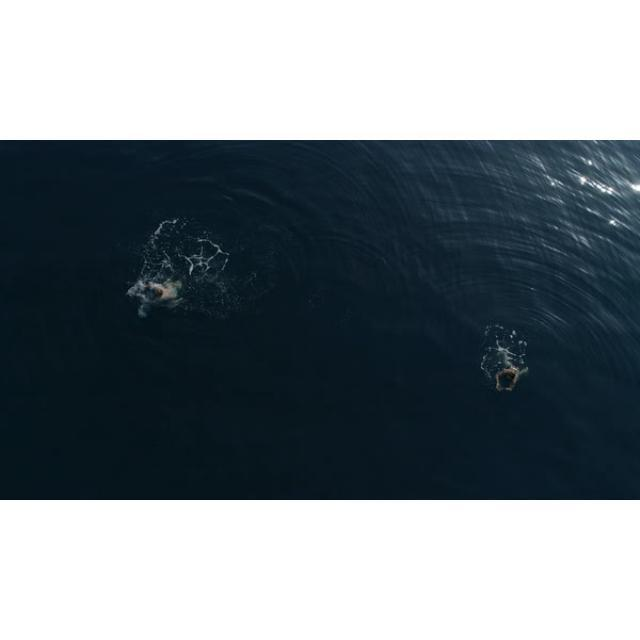human: (495, 357, 528, 394), (147, 279, 182, 300)
